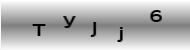6: (149, 9, 162, 24)
J: (88, 21, 98, 38)
T: (31, 23, 46, 37)
j: (115, 25, 125, 43)
y: (61, 15, 77, 29)
